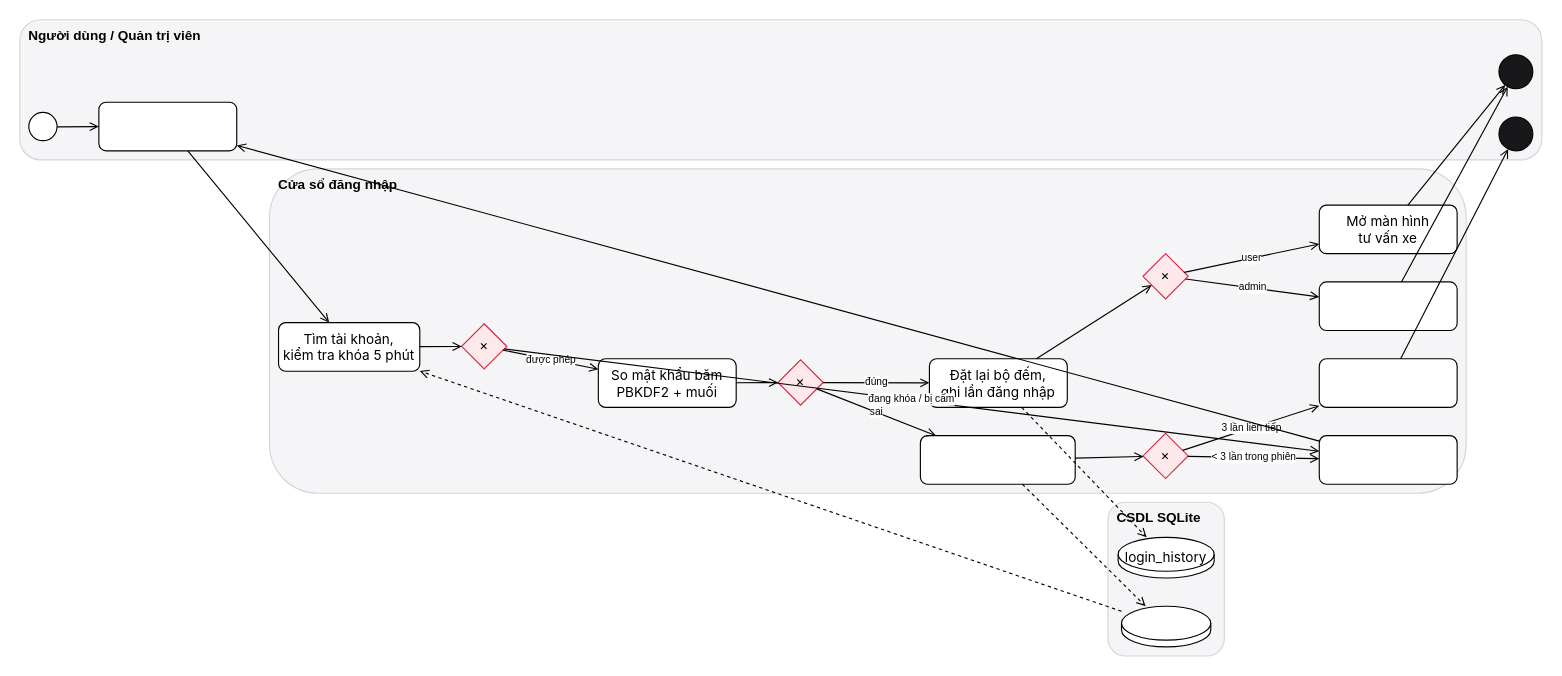
The diagram is 1562 pixels wide and 676 high, and some of its shapes have lost their labels. The shapes that lost their labels are listed below. From the top down, each one's centre as x and y in pixels, then its label:
At pixel 167 126: "Nhập username và mật khẩu".
At pixel 1387 306: "Mở Admin console".
At pixel 1387 382: "Thông báo và thoát ứng dụng".
At pixel 997 459: "Tăng số lần sai; đủ 3 lần → khóa 5 phút".
At pixel 1387 459: "Báo lỗi, số lần còn lại".
At pixel 1165 626: "users".
